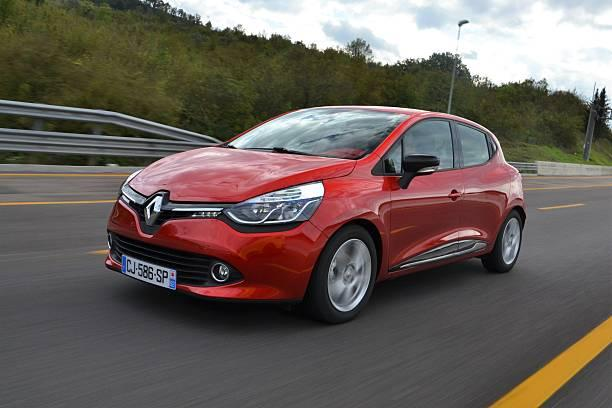Renault: (136, 190, 168, 233)
